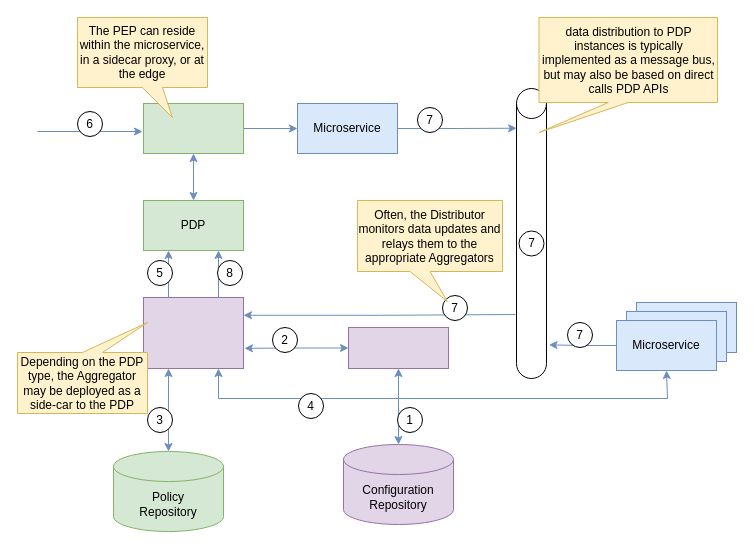
The diagram is 754 pixels wide and 549 high, and some of its shapes have lost their labels. Here are the shapes that lost their labels. From the top down, the centre of each, then its label:
At [193,128]: "PEP".
At [193,332]: "Aggregator".
At [398,347]: "Distributor".
